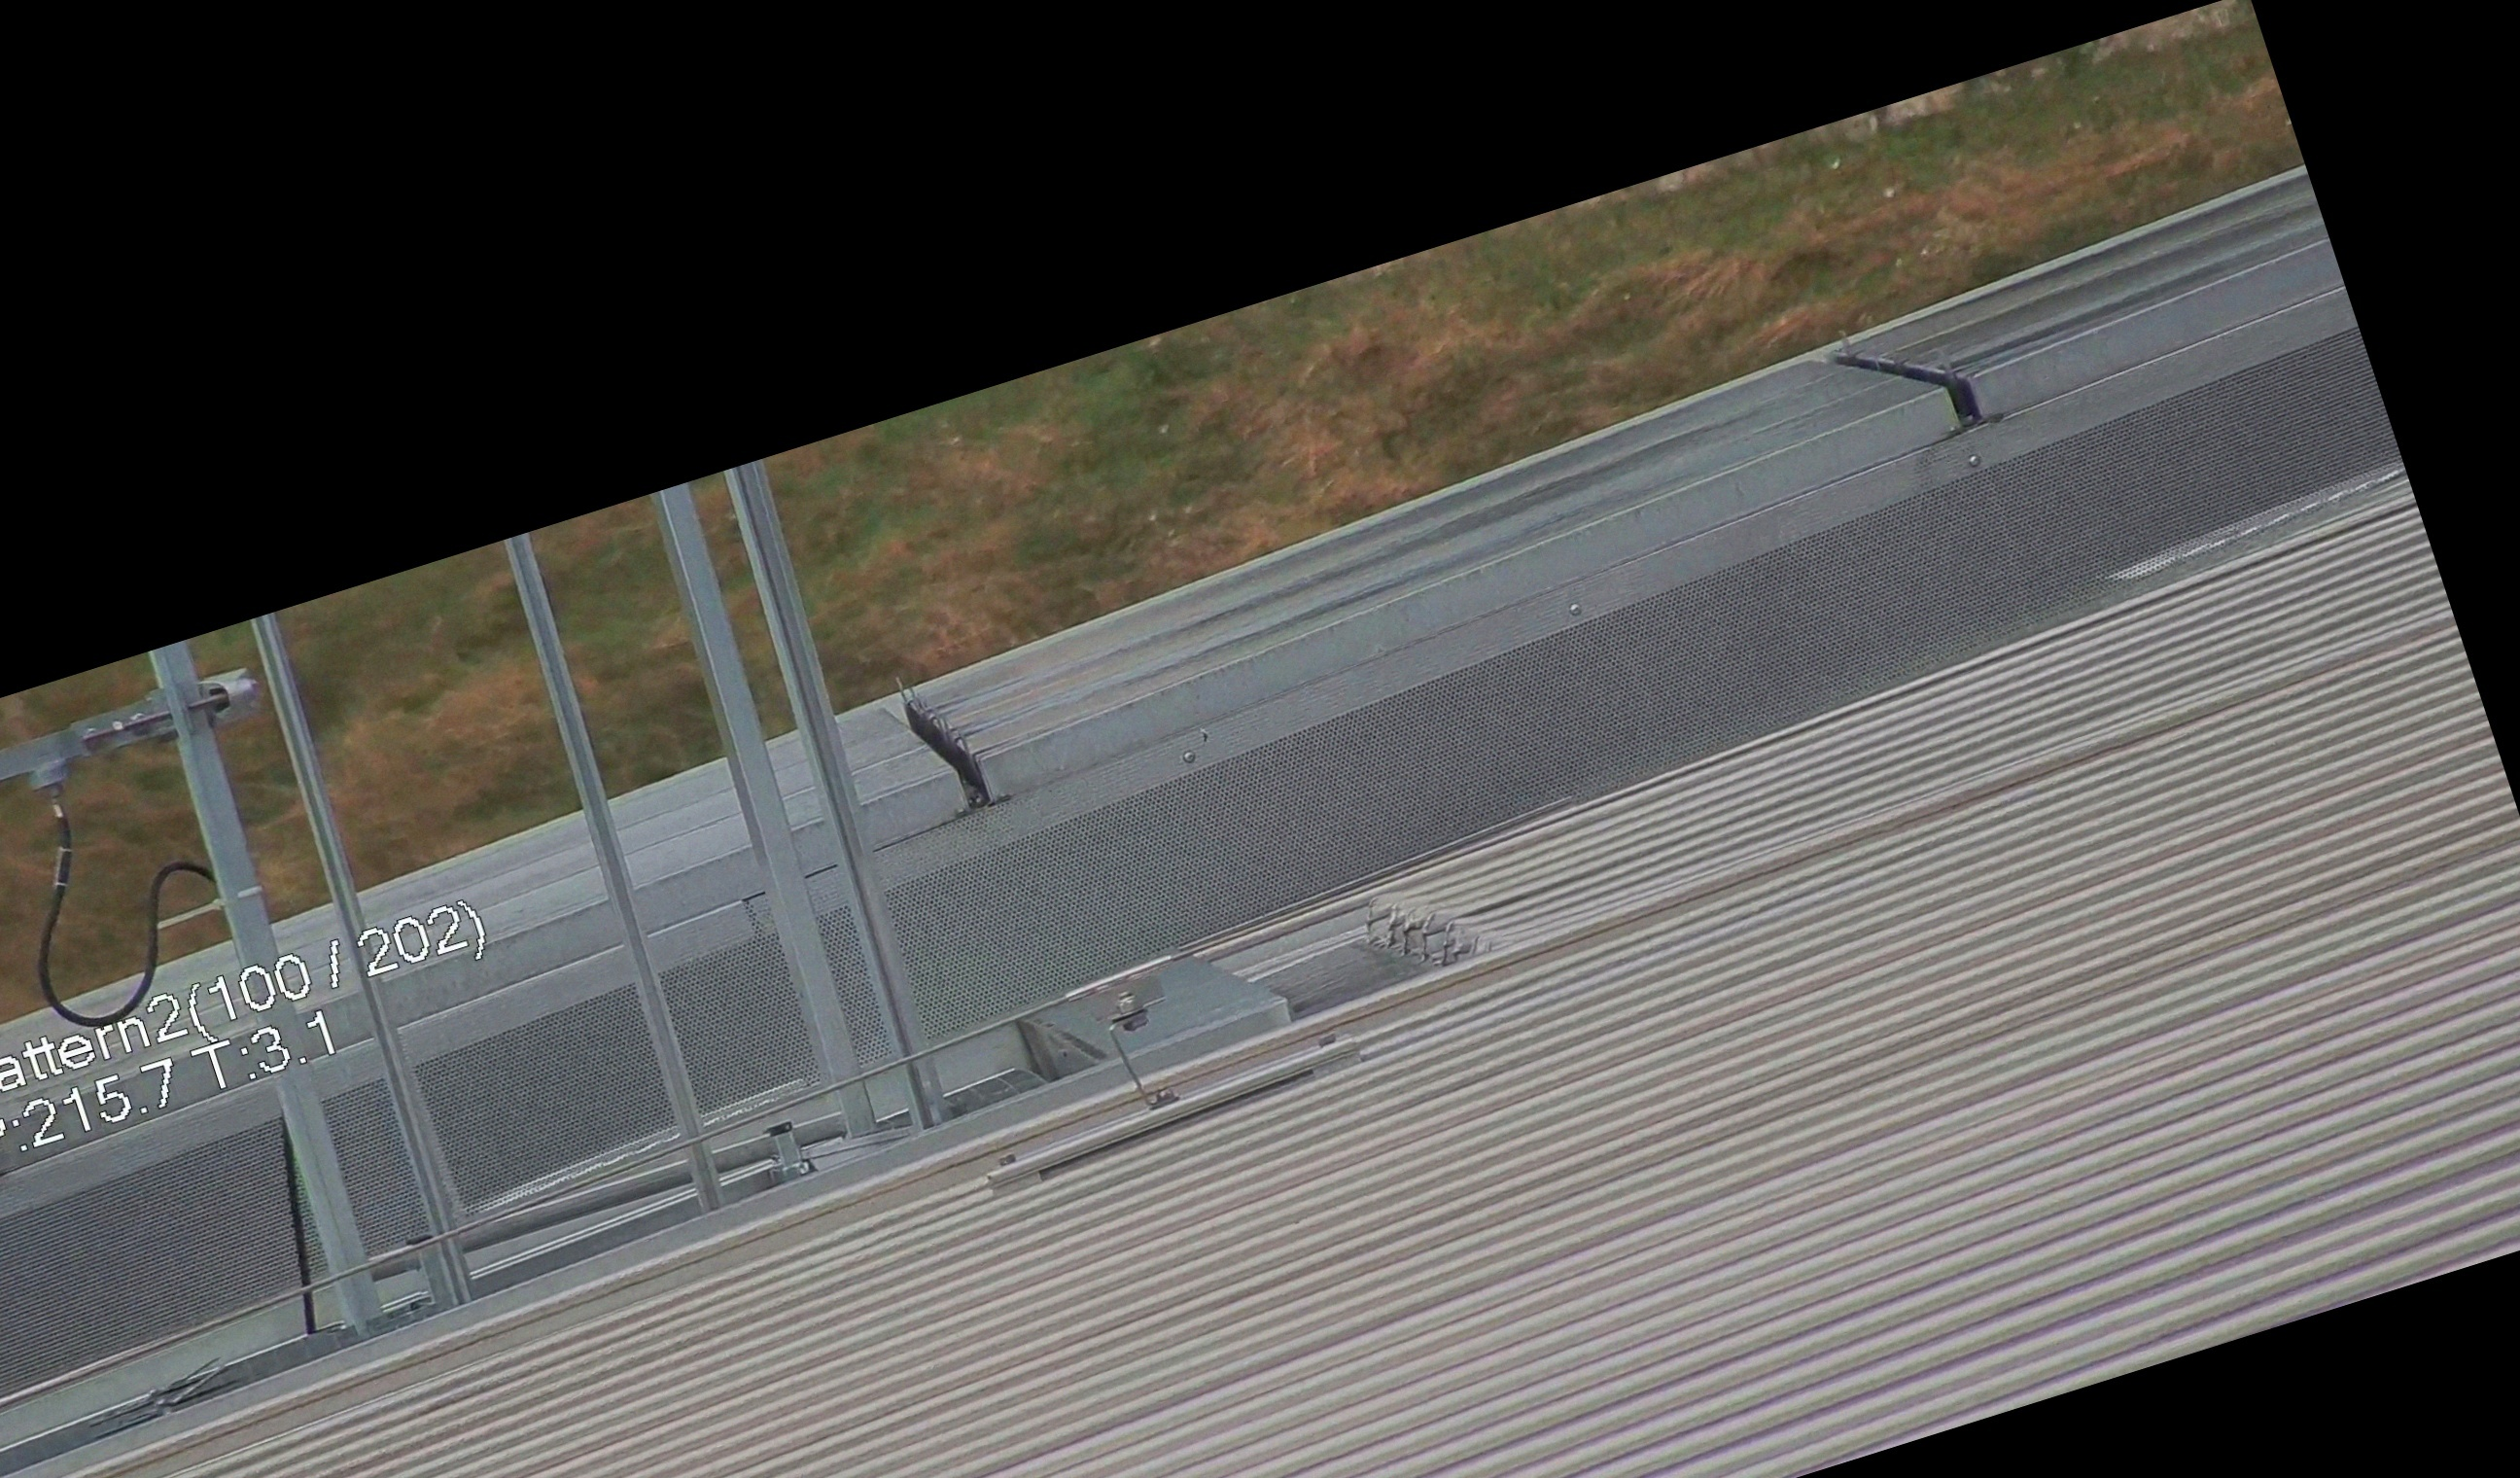Other: (867, 660, 1013, 836)
